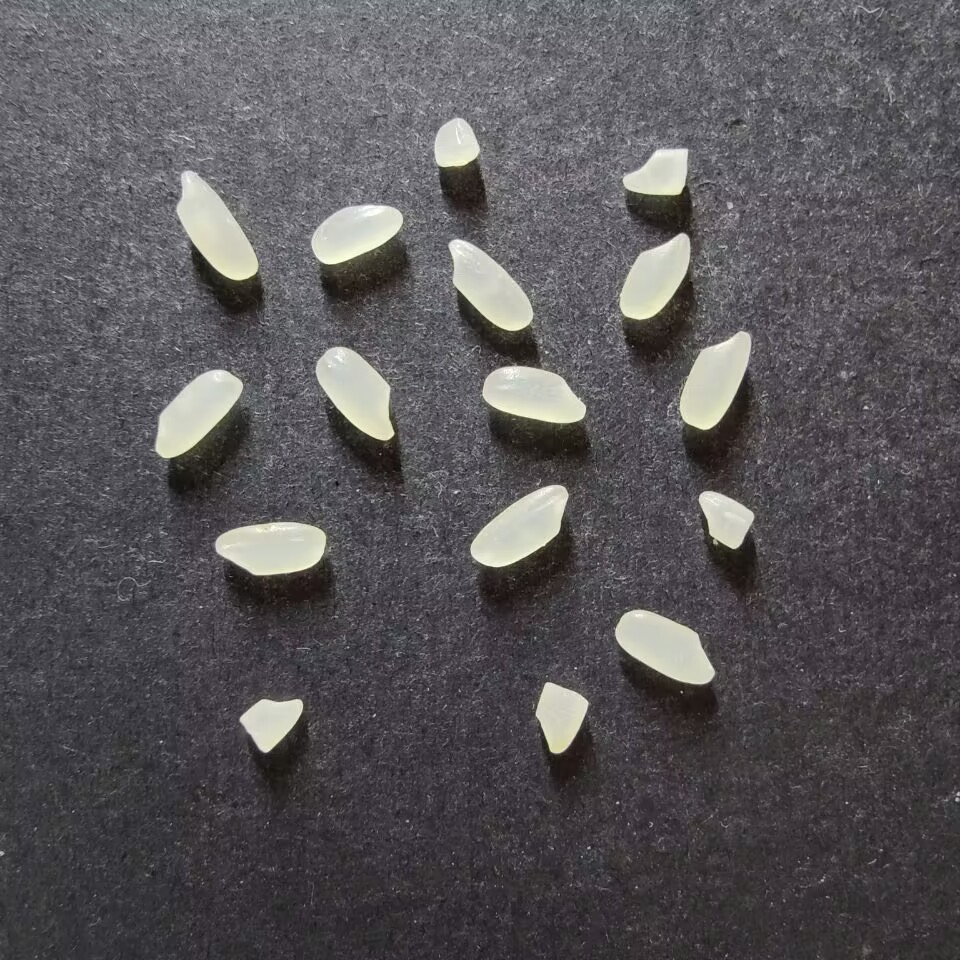broken: (534, 681, 588, 754), (239, 698, 303, 753), (697, 490, 754, 549), (622, 147, 689, 195), (433, 117, 480, 168)
rice: (174, 170, 257, 281), (469, 485, 569, 567), (154, 369, 243, 458), (447, 239, 533, 331), (614, 609, 715, 685), (314, 347, 394, 441), (679, 331, 751, 430), (619, 232, 690, 320), (482, 366, 585, 424), (214, 522, 326, 575), (310, 204, 402, 264)
